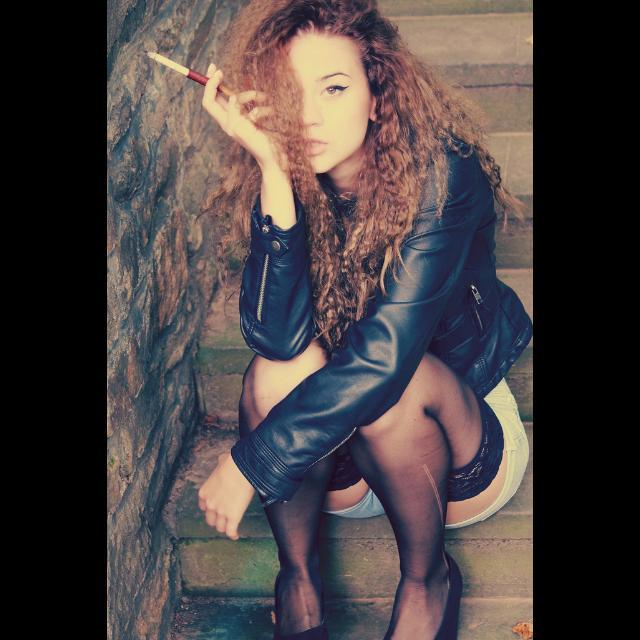rokok: (143, 44, 190, 76)
